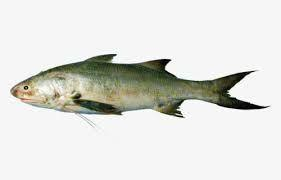Fourfinger Threadfish: (10, 53, 271, 127)
